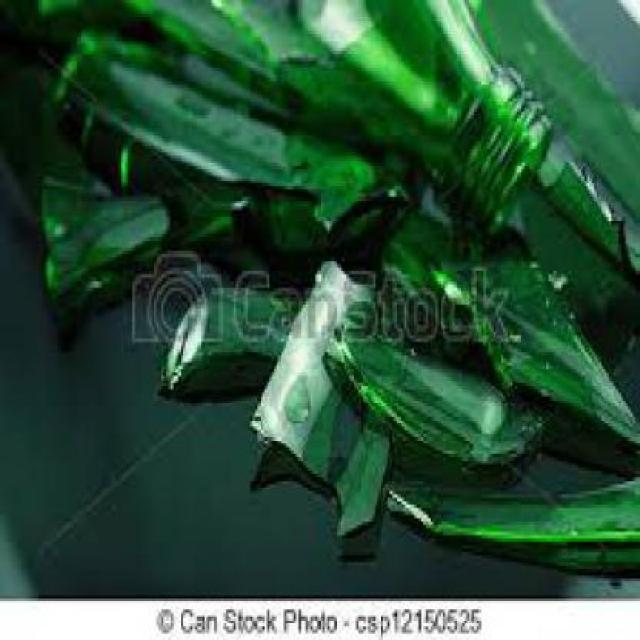GLASS: (118, 0, 552, 231), (53, 23, 407, 251), (428, 233, 638, 484), (461, 0, 638, 278), (5, 51, 238, 248), (334, 302, 544, 470), (246, 253, 366, 478), (382, 468, 638, 572), (248, 362, 388, 552), (502, 186, 638, 360), (38, 180, 168, 335), (154, 281, 311, 399), (0, 0, 137, 65)
